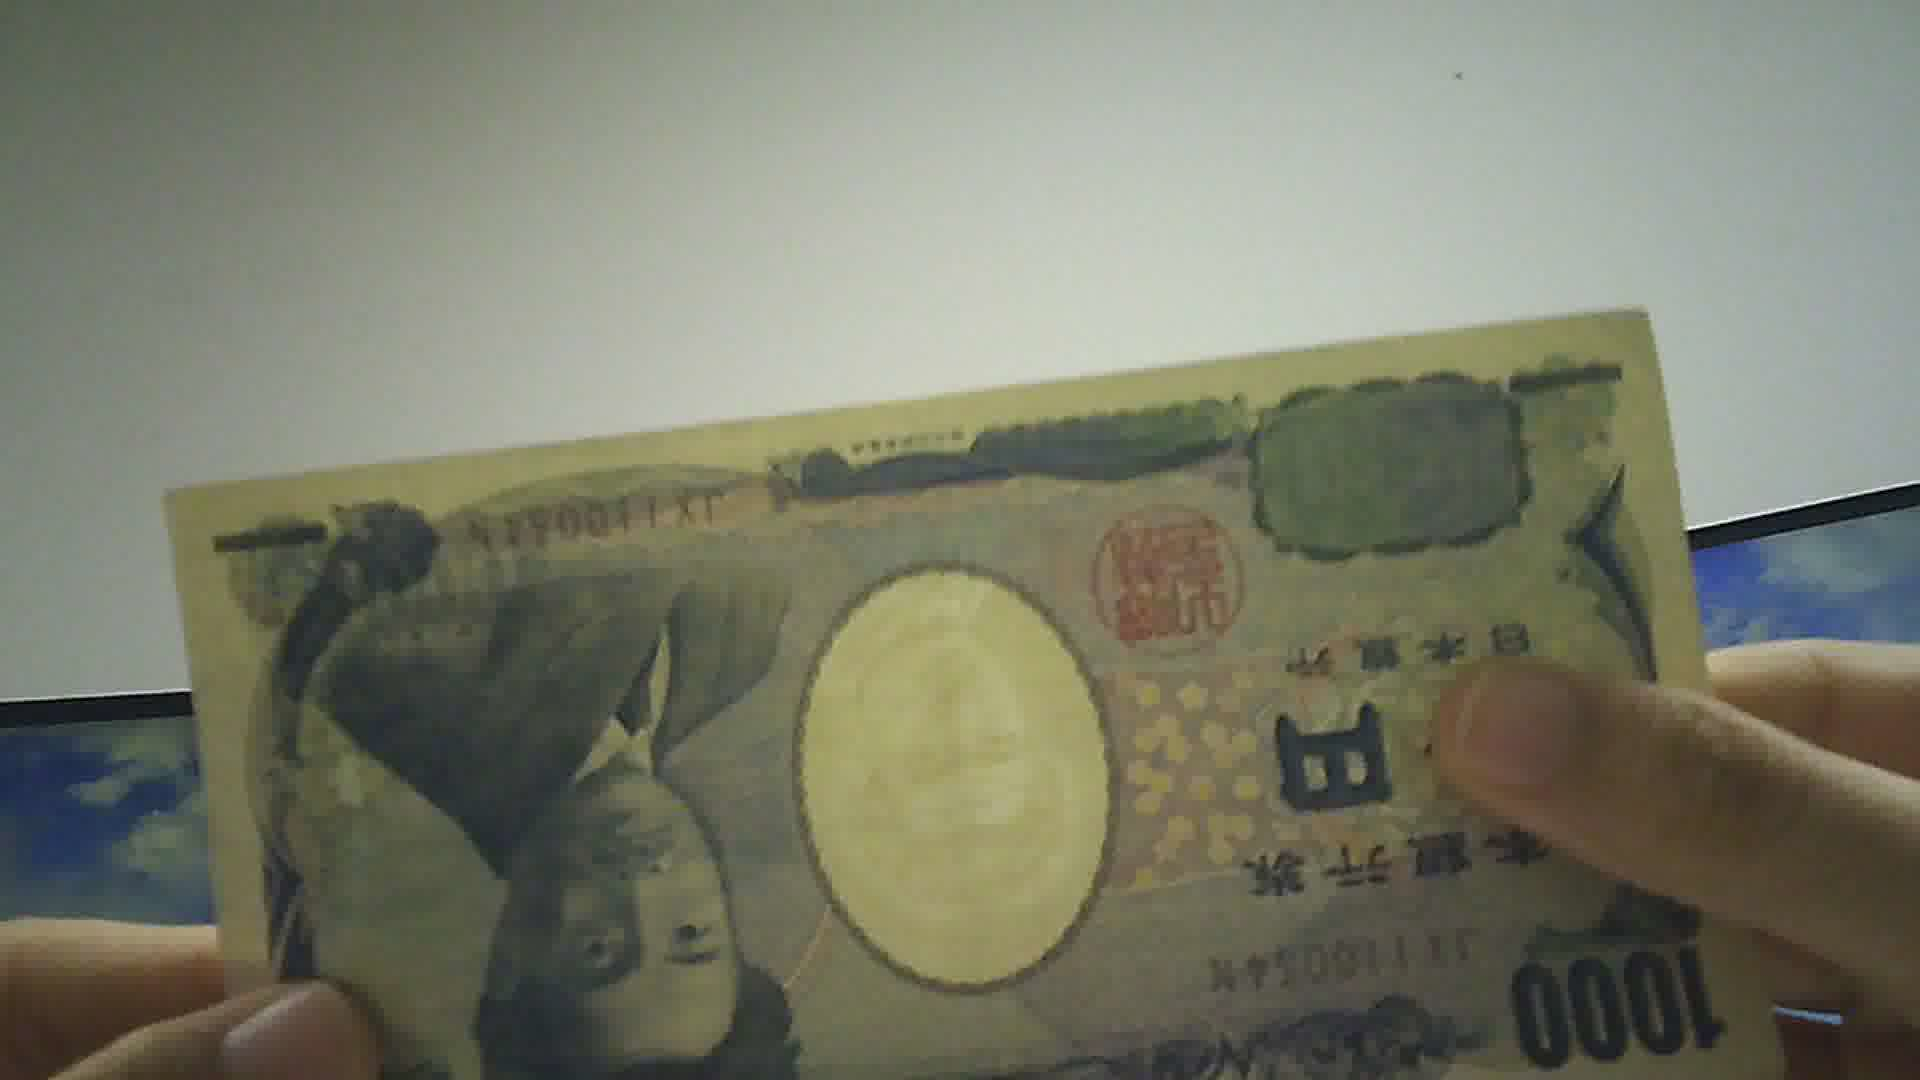1,000 Yen: (142, 315, 1784, 1079)
